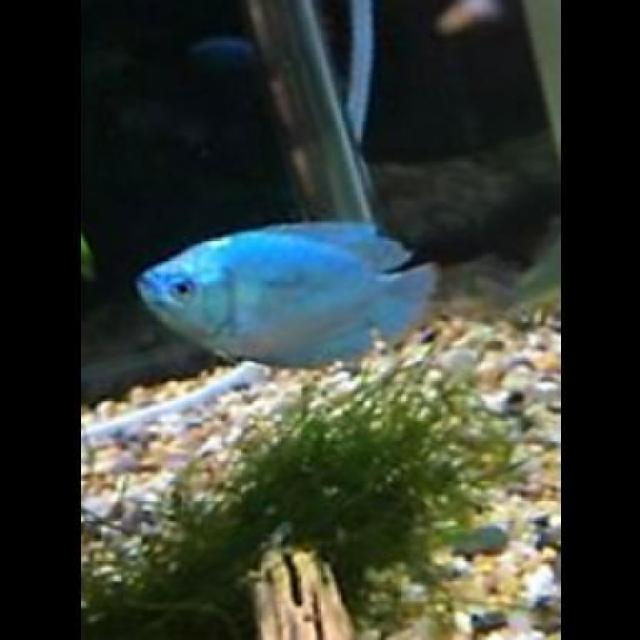Gourami: (138, 222, 438, 368)
